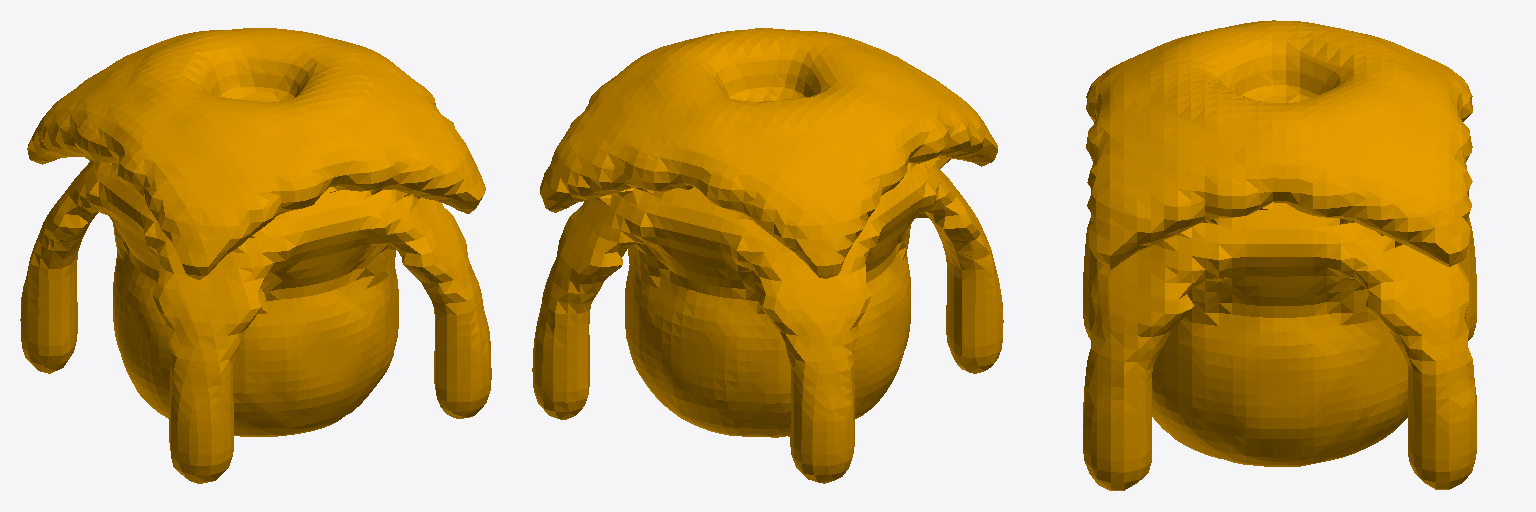
The robot description file, URDF, robot "object":
<?xml version="1.0"?>
<robot name="object">
  <link name="object">
    <visual>
      <origin xyz="0 0 0"/>
      <geometry>
        <mesh filename="meshes/subset_100_scaled/egad_I19_0_s.obj" scale=".03 .03 .03"/>
      </geometry>
    </visual>
    <collision>
  <origin xyz="0 0 0"/>
  <geometry>
    <mesh filename="meshes/subset_100_scaled/egad_I19_0_s_0decompose.obj" scale=".03 .03 .03"/>
<!--          <mesh filename="meshes/custom/obj0_ball.obj" scale=".05 .05 .05"/>-->
  </geometry>
</collision><collision>
  <origin xyz="0 0 0"/>
  <geometry>
    <mesh filename="meshes/subset_100_scaled/egad_I19_0_s_1decompose.obj" scale=".03 .03 .03"/>
<!--          <mesh filename="meshes/custom/obj0_ball.obj" scale=".05 .05 .05"/>-->
  </geometry>
</collision><collision>
  <origin xyz="0 0 0"/>
  <geometry>
    <mesh filename="meshes/subset_100_scaled/egad_I19_0_s_2decompose.obj" scale=".03 .03 .03"/>
<!--          <mesh filename="meshes/custom/obj0_ball.obj" scale=".05 .05 .05"/>-->
  </geometry>
</collision><collision>
  <origin xyz="0 0 0"/>
  <geometry>
    <mesh filename="meshes/subset_100_scaled/egad_I19_0_s_3decompose.obj" scale=".03 .03 .03"/>
<!--          <mesh filename="meshes/custom/obj0_ball.obj" scale=".05 .05 .05"/>-->
  </geometry>
</collision><collision>
  <origin xyz="0 0 0"/>
  <geometry>
    <mesh filename="meshes/subset_100_scaled/egad_I19_0_s_4decompose.obj" scale=".03 .03 .03"/>
<!--          <mesh filename="meshes/custom/obj0_ball.obj" scale=".05 .05 .05"/>-->
  </geometry>
</collision><collision>
  <origin xyz="0 0 0"/>
  <geometry>
    <mesh filename="meshes/subset_100_scaled/egad_I19_0_s_5decompose.obj" scale=".03 .03 .03"/>
<!--          <mesh filename="meshes/custom/obj0_ball.obj" scale=".05 .05 .05"/>-->
  </geometry>
</collision><collision>
  <origin xyz="0 0 0"/>
  <geometry>
    <mesh filename="meshes/subset_100_scaled/egad_I19_0_s_6decompose.obj" scale=".03 .03 .03"/>
<!--          <mesh filename="meshes/custom/obj0_ball.obj" scale=".05 .05 .05"/>-->
  </geometry>
</collision><collision>
  <origin xyz="0 0 0"/>
  <geometry>
    <mesh filename="meshes/subset_100_scaled/egad_I19_0_s_7decompose.obj" scale=".03 .03 .03"/>
<!--          <mesh filename="meshes/custom/obj0_ball.obj" scale=".05 .05 .05"/>-->
  </geometry>
</collision><collision>
  <origin xyz="0 0 0"/>
  <geometry>
    <mesh filename="meshes/subset_100_scaled/egad_I19_0_s_8decompose.obj" scale=".03 .03 .03"/>
<!--          <mesh filename="meshes/custom/obj0_ball.obj" scale=".05 .05 .05"/>-->
  </geometry>
</collision><collision>
  <origin xyz="0 0 0"/>
  <geometry>
    <mesh filename="meshes/subset_100_scaled/egad_I19_0_s_9decompose.obj" scale=".03 .03 .03"/>
<!--          <mesh filename="meshes/custom/obj0_ball.obj" scale=".05 .05 .05"/>-->
  </geometry>
</collision><collision>
  <origin xyz="0 0 0"/>
  <geometry>
    <mesh filename="meshes/subset_100_scaled/egad_I19_0_s_10decompose.obj" scale=".03 .03 .03"/>
<!--          <mesh filename="meshes/custom/obj0_ball.obj" scale=".05 .05 .05"/>-->
  </geometry>
</collision><collision>
  <origin xyz="0 0 0"/>
  <geometry>
    <mesh filename="meshes/subset_100_scaled/egad_I19_0_s_11decompose.obj" scale=".03 .03 .03"/>
<!--          <mesh filename="meshes/custom/obj0_ball.obj" scale=".05 .05 .05"/>-->
  </geometry>
</collision><collision>
  <origin xyz="0 0 0"/>
  <geometry>
    <mesh filename="meshes/subset_100_scaled/egad_I19_0_s_12decompose.obj" scale=".03 .03 .03"/>
<!--          <mesh filename="meshes/custom/obj0_ball.obj" scale=".05 .05 .05"/>-->
  </geometry>
</collision><collision>
  <origin xyz="0 0 0"/>
  <geometry>
    <mesh filename="meshes/subset_100_scaled/egad_I19_0_s_13decompose.obj" scale=".03 .03 .03"/>
<!--          <mesh filename="meshes/custom/obj0_ball.obj" scale=".05 .05 .05"/>-->
  </geometry>
</collision><collision>
  <origin xyz="0 0 0"/>
  <geometry>
    <mesh filename="meshes/subset_100_scaled/egad_I19_0_s_14decompose.obj" scale=".03 .03 .03"/>
<!--          <mesh filename="meshes/custom/obj0_ball.obj" scale=".05 .05 .05"/>-->
  </geometry>
</collision><collision>
  <origin xyz="0 0 0"/>
  <geometry>
    <mesh filename="meshes/subset_100_scaled/egad_I19_0_s_15decompose.obj" scale=".03 .03 .03"/>
<!--          <mesh filename="meshes/custom/obj0_ball.obj" scale=".05 .05 .05"/>-->
  </geometry>
</collision><collision>
  <origin xyz="0 0 0"/>
  <geometry>
    <mesh filename="meshes/subset_100_scaled/egad_I19_0_s_16decompose.obj" scale=".03 .03 .03"/>
<!--          <mesh filename="meshes/custom/obj0_ball.obj" scale=".05 .05 .05"/>-->
  </geometry>
</collision><collision>
  <origin xyz="0 0 0"/>
  <geometry>
    <mesh filename="meshes/subset_100_scaled/egad_I19_0_s_17decompose.obj" scale=".03 .03 .03"/>
<!--          <mesh filename="meshes/custom/obj0_ball.obj" scale=".05 .05 .05"/>-->
  </geometry>
</collision><collision>
  <origin xyz="0 0 0"/>
  <geometry>
    <mesh filename="meshes/subset_100_scaled/egad_I19_0_s_18decompose.obj" scale=".03 .03 .03"/>
<!--          <mesh filename="meshes/custom/obj0_ball.obj" scale=".05 .05 .05"/>-->
  </geometry>
</collision><collision>
  <origin xyz="0 0 0"/>
  <geometry>
    <mesh filename="meshes/subset_100_scaled/egad_I19_0_s_19decompose.obj" scale=".03 .03 .03"/>
<!--          <mesh filename="meshes/custom/obj0_ball.obj" scale=".05 .05 .05"/>-->
  </geometry>
</collision><collision>
  <origin xyz="0 0 0"/>
  <geometry>
    <mesh filename="meshes/subset_100_scaled/egad_I19_0_s_20decompose.obj" scale=".03 .03 .03"/>
<!--          <mesh filename="meshes/custom/obj0_ball.obj" scale=".05 .05 .05"/>-->
  </geometry>
</collision><collision>
  <origin xyz="0 0 0"/>
  <geometry>
    <mesh filename="meshes/subset_100_scaled/egad_I19_0_s_21decompose.obj" scale=".03 .03 .03"/>
<!--          <mesh filename="meshes/custom/obj0_ball.obj" scale=".05 .05 .05"/>-->
  </geometry>
</collision><collision>
  <origin xyz="0 0 0"/>
  <geometry>
    <mesh filename="meshes/subset_100_scaled/egad_I19_0_s_22decompose.obj" scale=".03 .03 .03"/>
<!--          <mesh filename="meshes/custom/obj0_ball.obj" scale=".05 .05 .05"/>-->
  </geometry>
</collision>

<!--    <collision>-->
<!--      <origin xyz="0 0 0"/>-->
<!--      <geometry>-->
<!--        <mesh filename="meshes/subset_100_scaled/egad_I19_0_s.obj" scale=".03 .03 .03"/>-->
<!--&lt;!&ndash;          <mesh filename="meshes/custom/obj0_ball.obj" scale=".05 .05 .05"/>&ndash;&gt;-->
<!--      </geometry>-->
<!--    </collision>-->
    <inertial>
      <density value="1000.0"/>
    </inertial>
  </link>
</robot>

--- Render facts (derived) ---
Views: 3 orthographic renders of the robot side by side, from view 1: azimuth 30°, elevation 25°; view 2: azimuth 150°, elevation 25°; view 3: azimuth 270°, elevation 25°.
Robot: object — 1 links, 0 joints (none); root link object; default pose: every joint at zero.
Links seen in each view (by area): view 1: object; view 2: object; view 3: object.
Boxes of the visible links, x1=… form: object: x1=20, y1=28, x2=491, y2=483; object: x1=532, y1=28, x2=1003, y2=483; object: x1=1083, y1=20, x2=1476, y2=490.
Bounding box of the posed robot: 0.06 × 0.06 × 0.06 m (x, y, z).
1 mesh visuals loaded from 1 distinct referenced files (1 OBJ).
